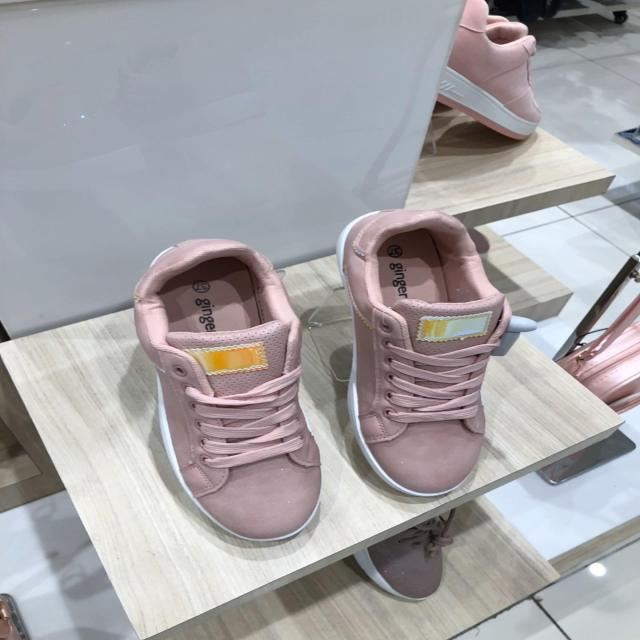shoe: (131, 239, 323, 545), (337, 210, 517, 483)
